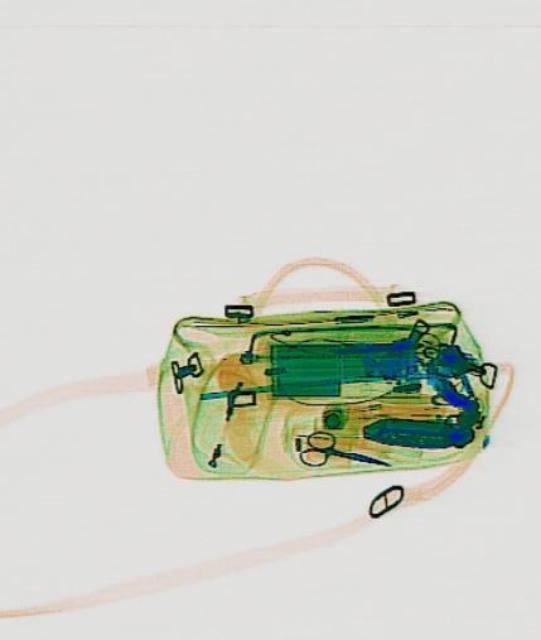Scissors: (295, 422, 394, 484)
